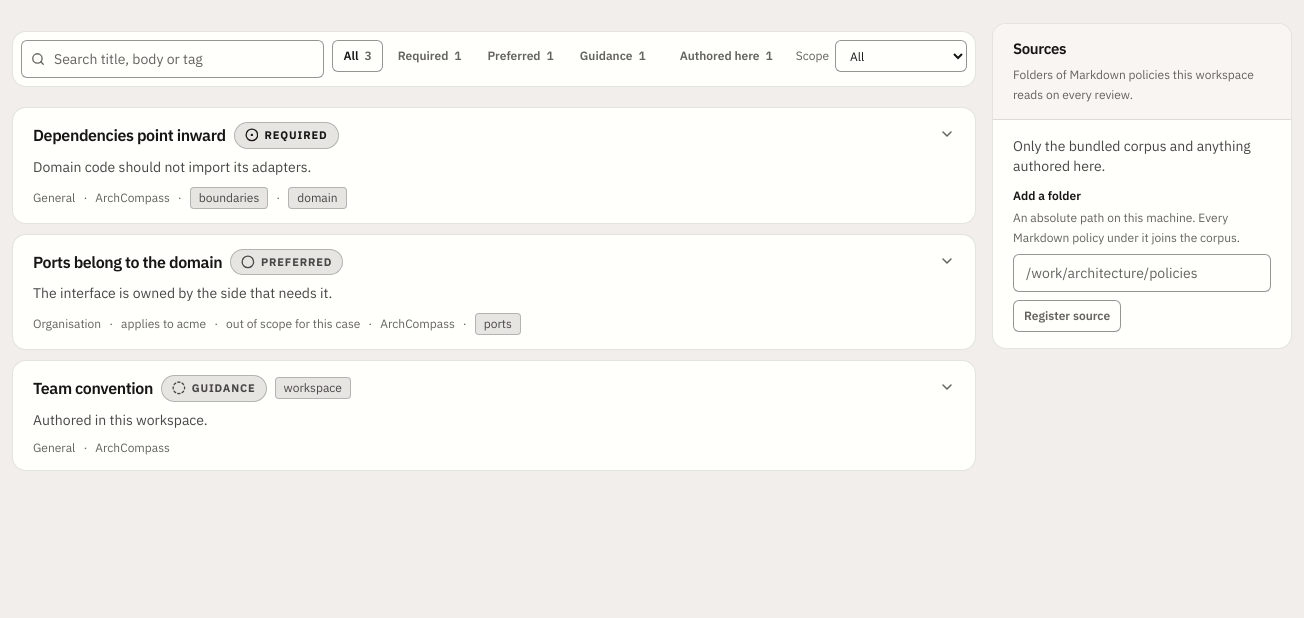
Test: the policy corpus › offers editing and deletion only for policies this workspace owns
The width and height of the screenshot is (1304, 618).
Click the button "Dependencies point inward Required".
click(129, 135)  # box left=33, top=122, right=955, bottom=148
(page scrolled)
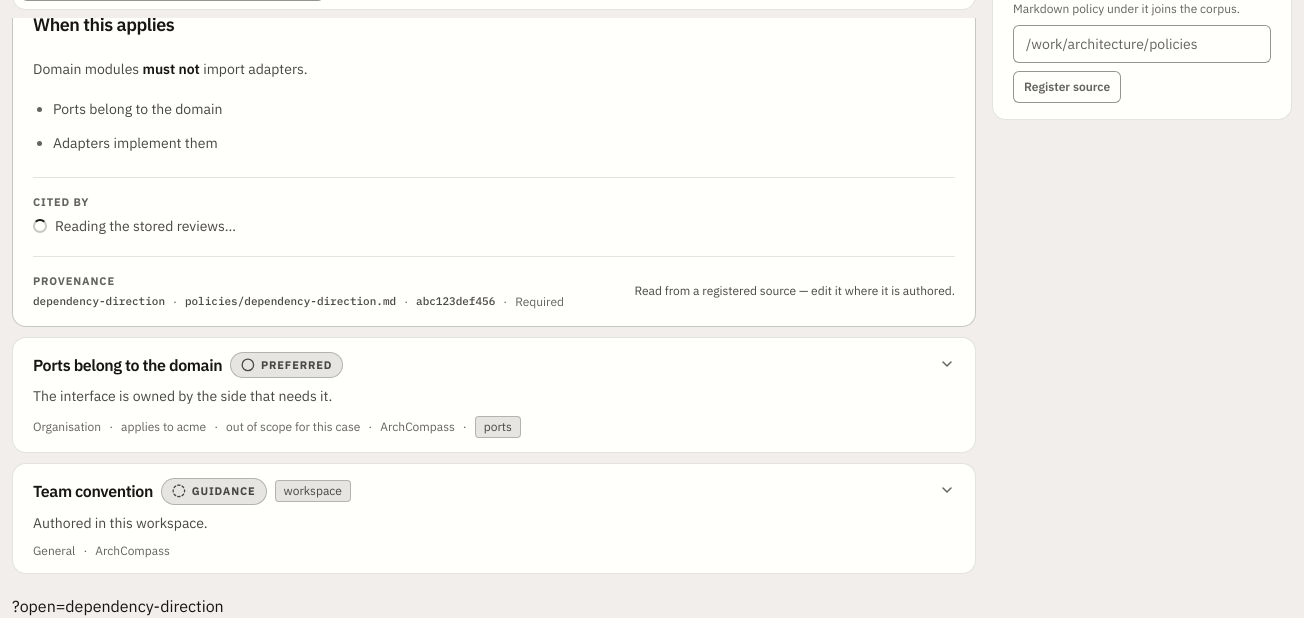
Expected: the text "Read from a registered source" is shown, left=634, top=283, right=955, bottom=298
Click the button "Team convention Guidance workspace".
click(93, 491)  # box left=33, top=478, right=955, bottom=504
(page scrolled)
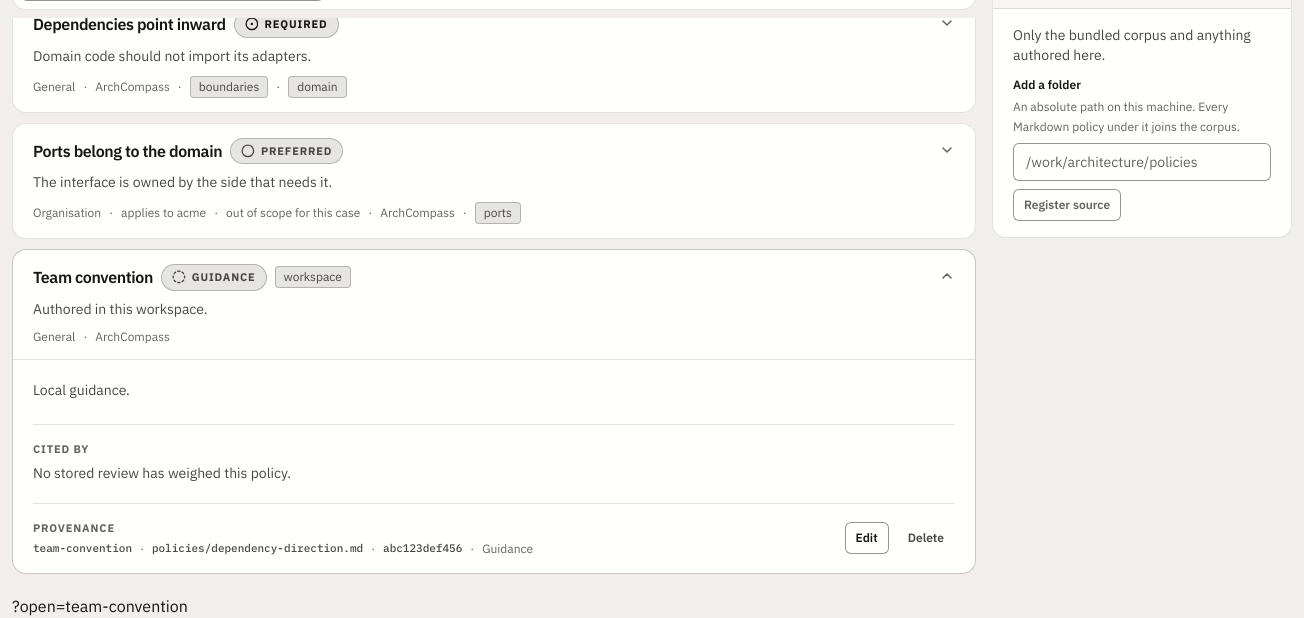
Expected: the button "Edit" is shown, left=845, top=522, right=889, bottom=554
Expected: the button "Delete" is shown, left=897, top=522, right=955, bottom=554
